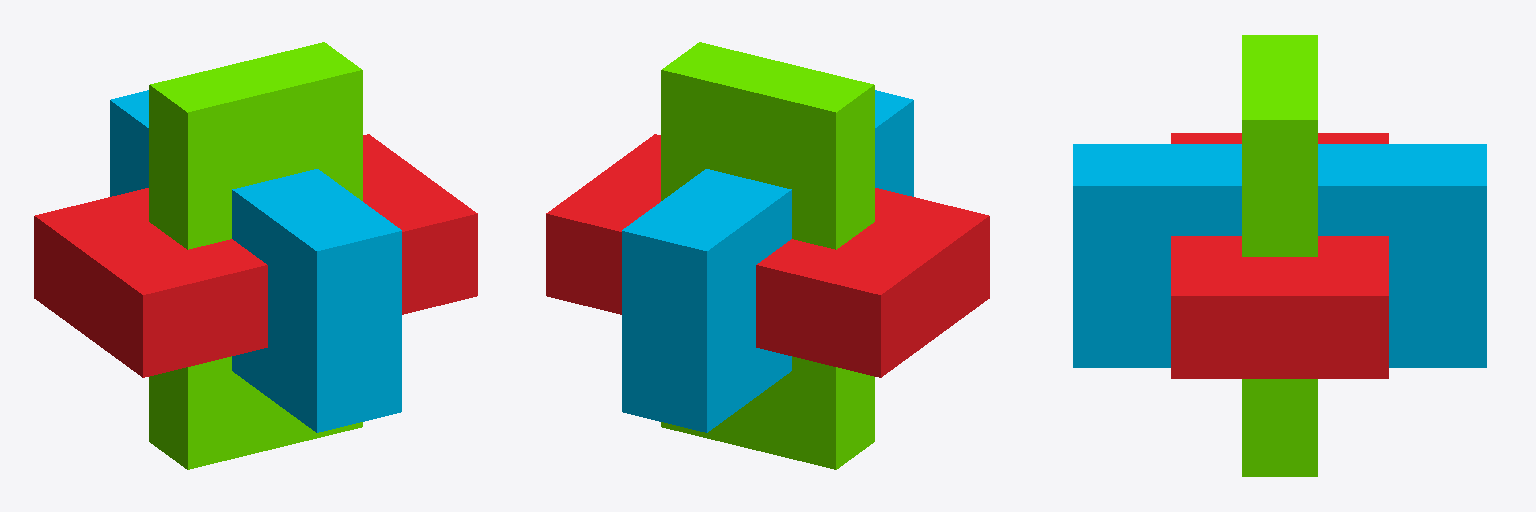
The model's file is color.obj.
3 views of the same model, side by side, from view 1: azimuth 30°, elevation 25°; view 2: azimuth 150°, elevation 25°; view 3: azimuth 270°, elevation 25° (orthographic).
Parts seen in each view (by area): view 1: pCube2, pCube1, pCube3; view 2: pCube2, pCube1, pCube3; view 3: pCube3, pCube1, pCube2.
Boxes of the visible parts, box(x1,y1,x2,y2) form: pCube2: box(149, 42, 362, 469); pCube1: box(34, 134, 477, 377); pCube3: box(110, 90, 401, 432); pCube2: box(661, 42, 874, 469); pCube1: box(546, 134, 989, 377); pCube3: box(622, 90, 913, 432); pCube3: box(1073, 144, 1486, 367); pCube1: box(1171, 133, 1388, 378); pCube2: box(1242, 35, 1317, 476).
Size of the model in its own units: 1.54 by 1.57 by 1.66.